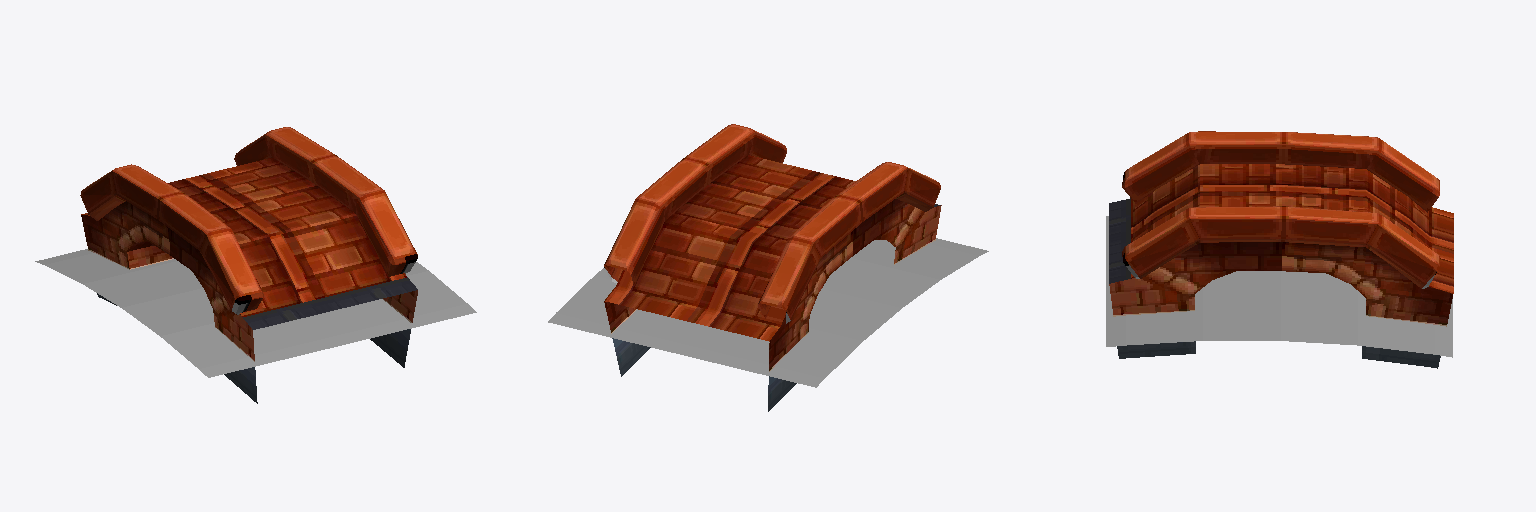
3 renders of one model, left to right at view 1: azimuth 30°, elevation 25°; view 2: azimuth 150°, elevation 25°; view 3: azimuth 270°, elevation 25°, orthographic.
Parts seen in each view (by area): view 1: vsn_mesh_0__mesh_0_, vsn_mesh_1__mesh_1_; view 2: vsn_mesh_0__mesh_0_, vsn_mesh_1__mesh_1_; view 3: vsn_mesh_0__mesh_0_, vsn_mesh_1__mesh_1_.
Part boxes in pixels (bbox=[...]): vsn_mesh_0__mesh_0_: bbox=[80, 127, 417, 403]; vsn_mesh_1__mesh_1_: bbox=[35, 249, 476, 377]; vsn_mesh_0__mesh_0_: bbox=[604, 124, 941, 411]; vsn_mesh_1__mesh_1_: bbox=[548, 238, 988, 387]; vsn_mesh_0__mesh_0_: bbox=[1109, 131, 1453, 368]; vsn_mesh_1__mesh_1_: bbox=[1106, 216, 1452, 357].
Bounding box in the file's own units: 123 × 69.86 × 138.
2 materials, 1 textured.